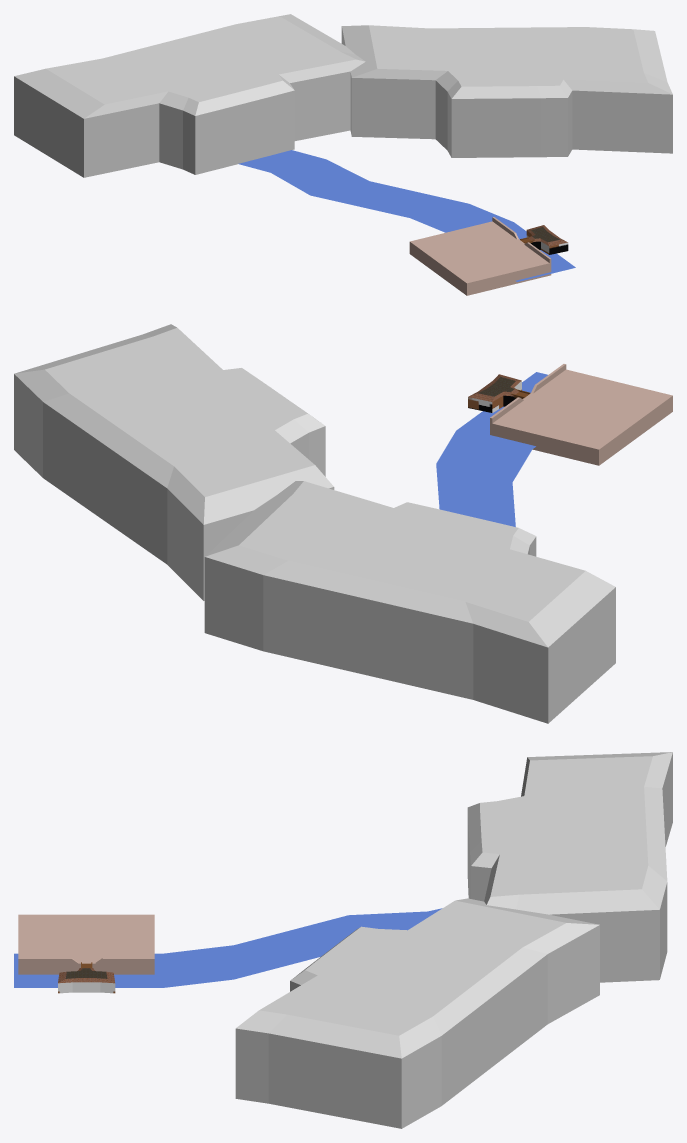
The model's file is ch1_overworld_env.glb.
3 renders of one model, top to bottom at view 1: azimuth 30°, elevation 25°; view 2: azimuth 150°, elevation 25°; view 3: azimuth 270°, elevation 25°, orthographic. The views are drawn at different scales.
Visible parts, largest first — view 1: BG_2, BG_1, Water, CitadelPlaceholder, Land; view 2: BG_2, BG_1, CitadelPlaceholder, Water, Land; view 3: BG_1, BG_2, Water, CitadelPlaceholder, Land.
Boxes of the visible parts, x1,y1,x2,y2 form: BG_2: (14, 14, 365, 177); BG_1: (341, 25, 672, 157); Water: (238, 150, 575, 281); CitadelPlaceholder: (409, 217, 551, 295); Land: (526, 225, 568, 254); BG_2: (204, 481, 615, 723); BG_1: (14, 324, 334, 600); CitadelPlaceholder: (490, 364, 672, 465); Water: (436, 372, 547, 526); Land: (468, 374, 521, 412); BG_1: (235, 898, 599, 1128); BG_2: (467, 752, 672, 982); Water: (14, 908, 442, 987); CitadelPlaceholder: (18, 914, 154, 974); Land: (58, 968, 115, 993).
Size of what is drawn, in the model's own units: 468 by 59.37 by 425.
6 materials, 3 textured.
